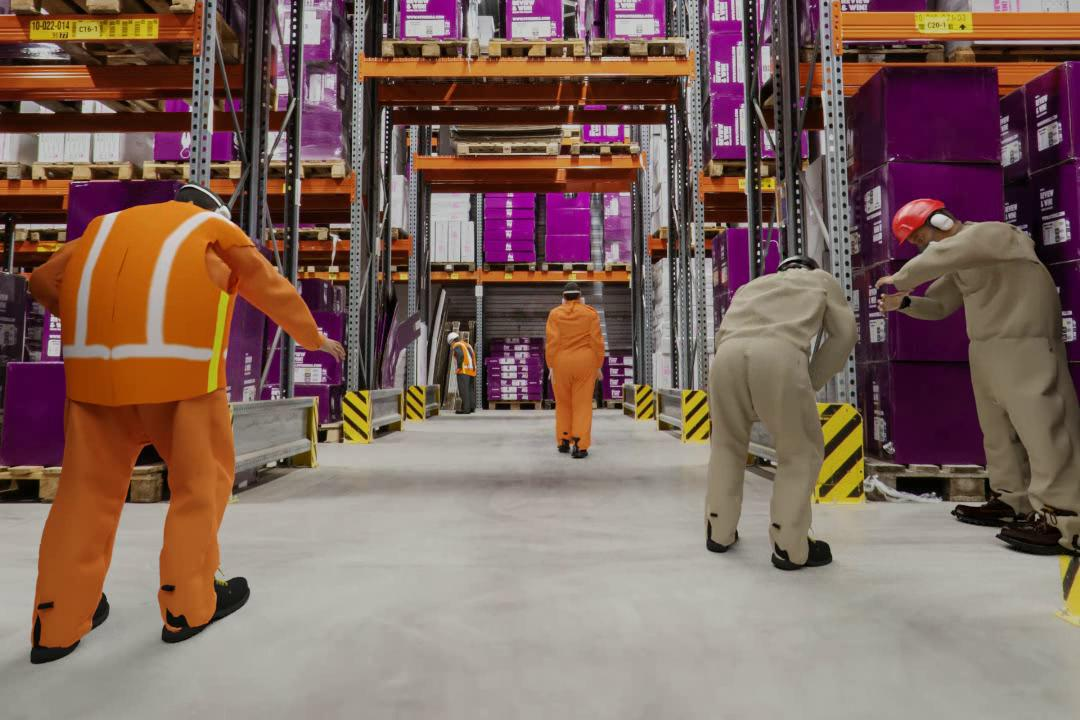Helmet: (880, 191, 957, 242), (442, 333, 455, 344)
Jacket: (62, 187, 211, 401), (451, 343, 473, 375)
Shoes: (23, 588, 112, 667), (160, 573, 253, 647), (999, 518, 1079, 560), (771, 535, 834, 574), (952, 491, 1027, 523), (705, 528, 741, 553), (573, 443, 591, 459), (558, 435, 571, 455), (454, 406, 472, 415)
